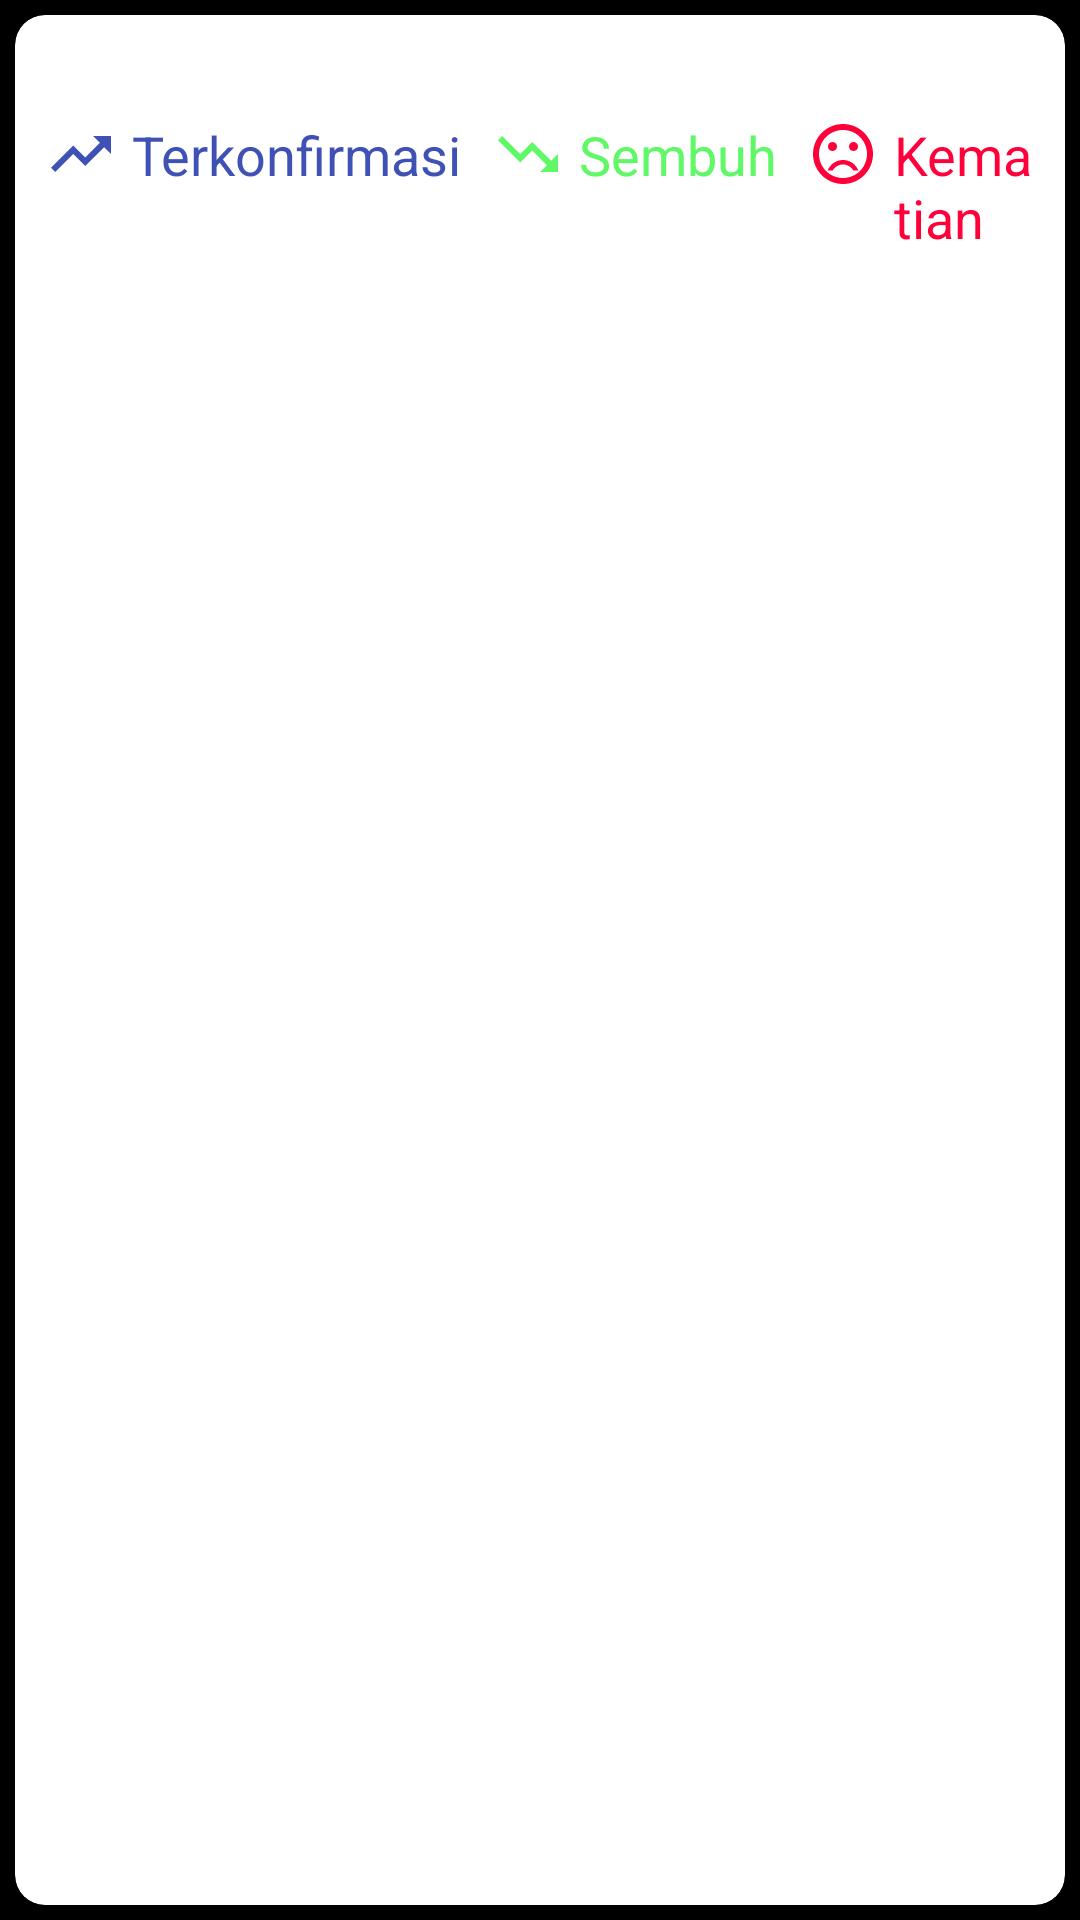

Point at icon controls on the screen. Image size 1080 x 1920, points as (x=x, y=y).
trending down: (x=528, y=154)
trending up: (x=81, y=154)
